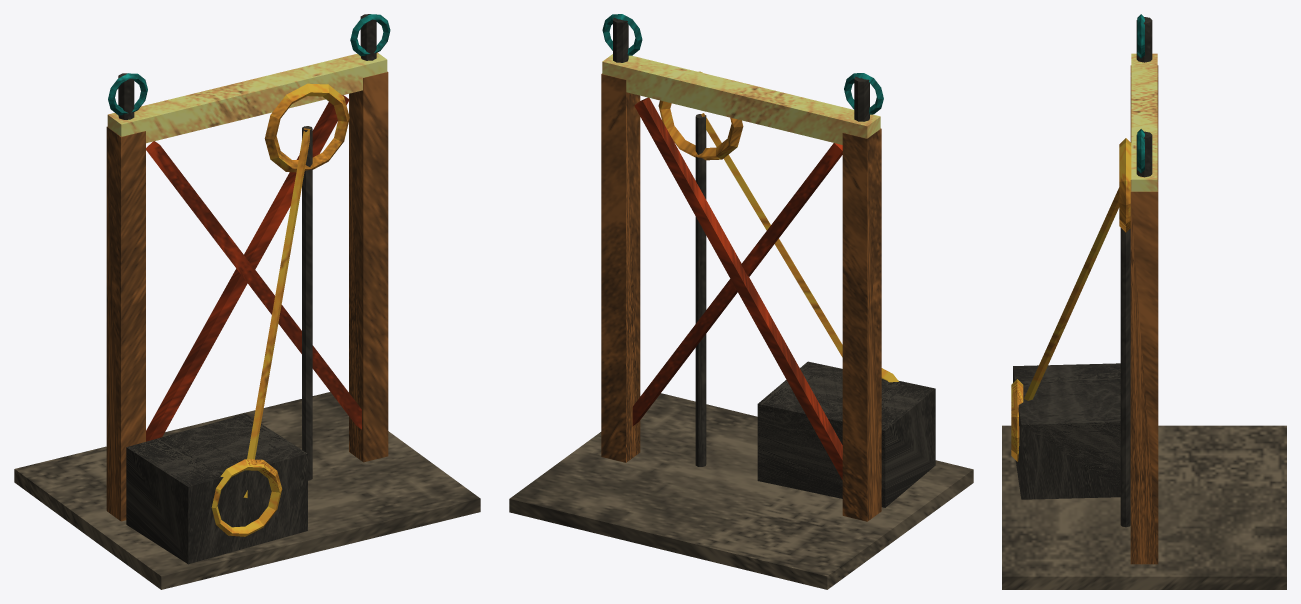
File: derrick-08.glb
The picture shows the model from 3 angles, left to right: view 1: azimuth 30°, elevation 25°; view 2: azimuth 150°, elevation 25°; view 3: azimuth 270°, elevation 25°; orthographic projection. The views are drawn at different scales.
Parts seen in each view (by area): view 1: derrick-08; view 2: derrick-08; view 3: derrick-08.
Part boxes in pixels (x1,y1,x2,y2): derrick-08: (14,14,480,589); derrick-08: (509,14,973,589); derrick-08: (1002,14,1286,589).
Bounding box in the file's own units: 5.4 × 7.35 × 4.3.
1 material, 1 textured.
